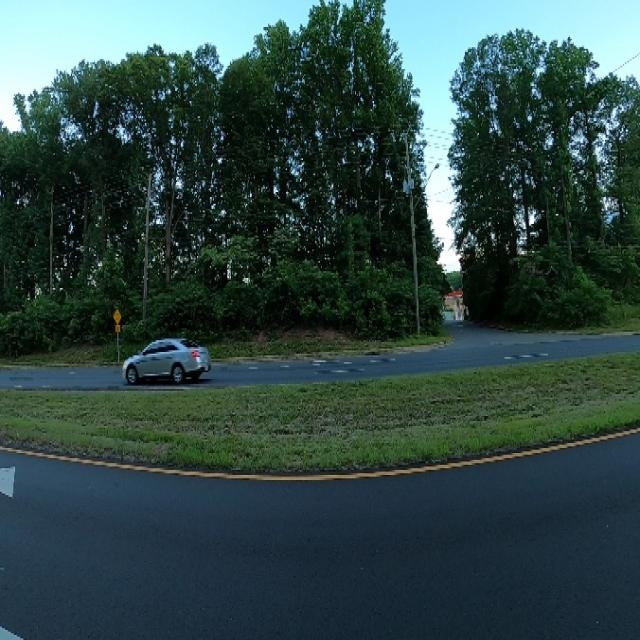cars: (121, 334, 212, 386)
